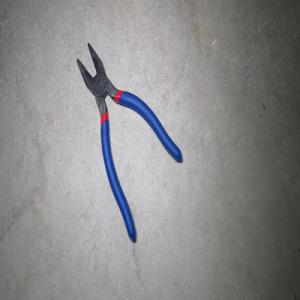Pliers: (76, 42, 182, 243)
